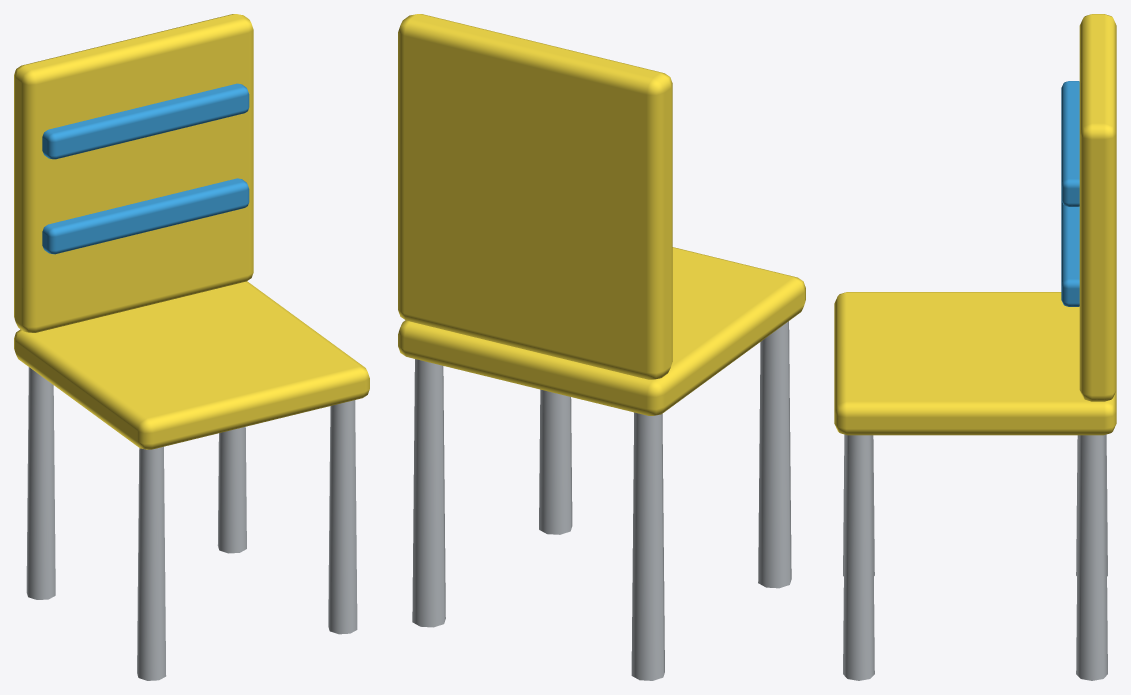
File: hero-shooter-harbour-payload-cafe-chair-73a22d7e__27711.glb
3 renders of one model, left to right at view 1: azimuth 30°, elevation 25°; view 2: azimuth 150°, elevation 25°; view 3: azimuth 270°, elevation 25°, orthographic. The views are drawn at different scales.
Parts seen in each view (by area): view 1: cafe-chair; view 2: cafe-chair; view 3: cafe-chair.
Boxes of the visible parts, <box> form: cafe-chair: <box>14,14,369,680</box>; cafe-chair: <box>398,14,805,680</box>; cafe-chair: <box>834,14,1116,680</box>.
Bounding box in the file's own units: 0.46 × 1 × 0.46.
